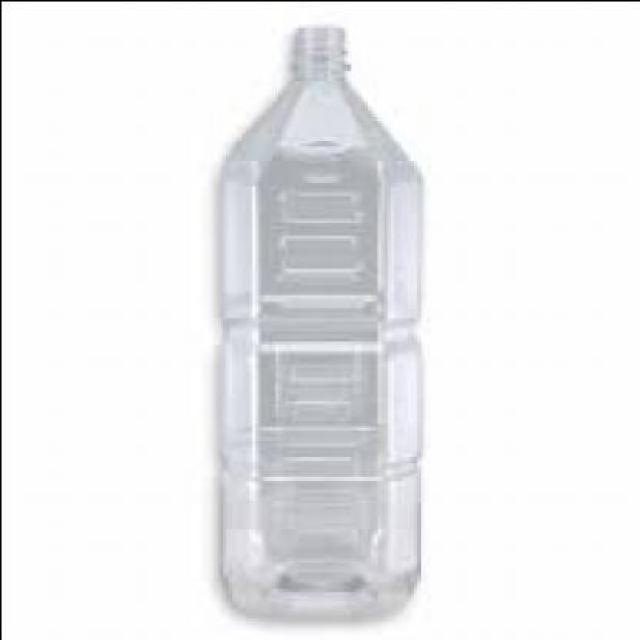PLASTIC: (221, 26, 422, 617)
